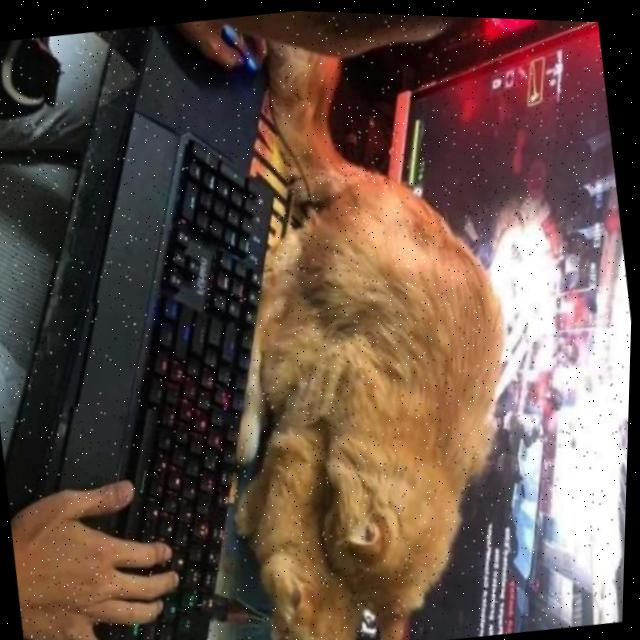Cats: (153, 5, 576, 640)
